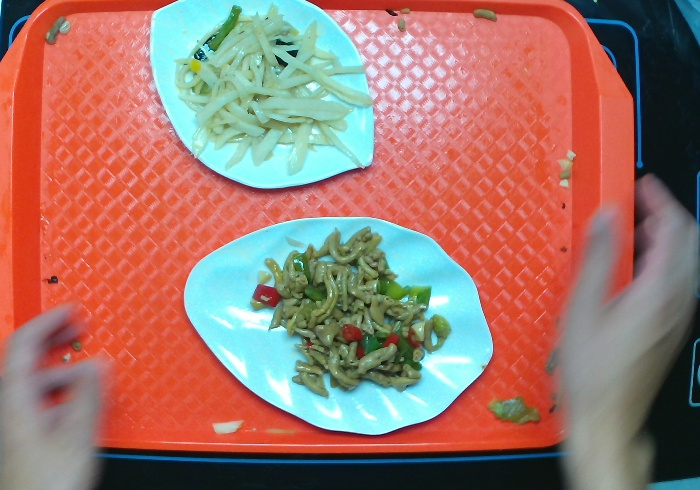RJxy-Bai_Ye_Pan: (183, 214, 495, 437)
RJxy-Da_Du_Pan: (148, 1, 376, 191)
